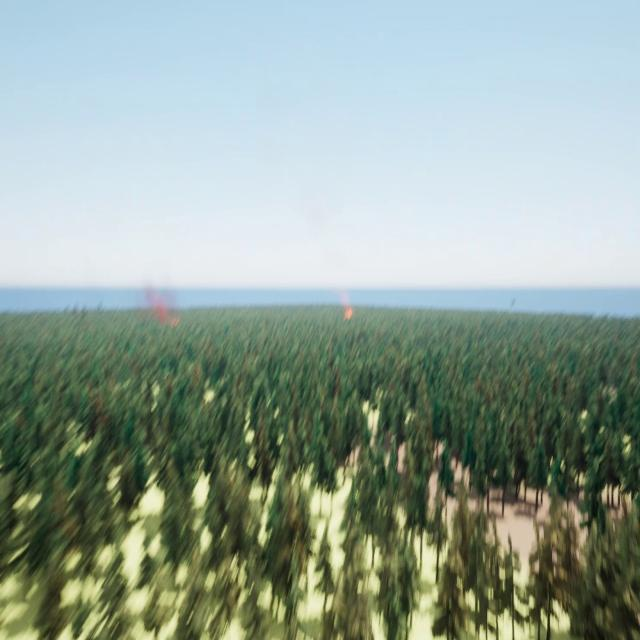smoke: (140, 275, 180, 323), (339, 281, 354, 323)
